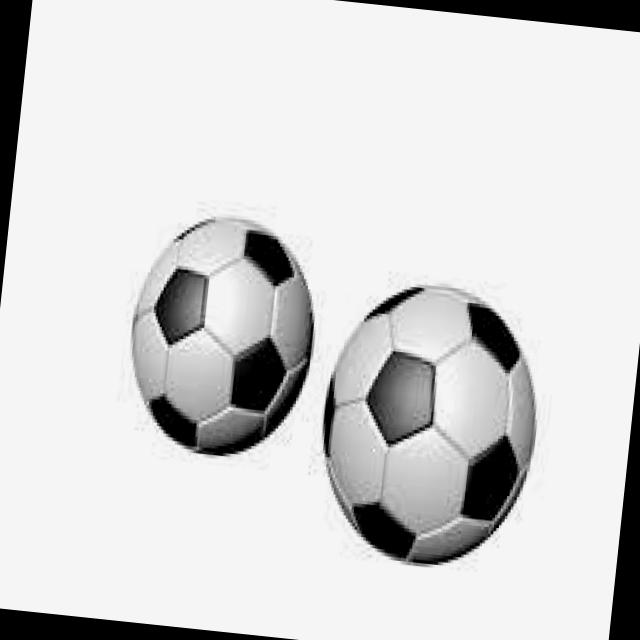Soccer Ball: (312, 276, 545, 570), (125, 209, 322, 460)
